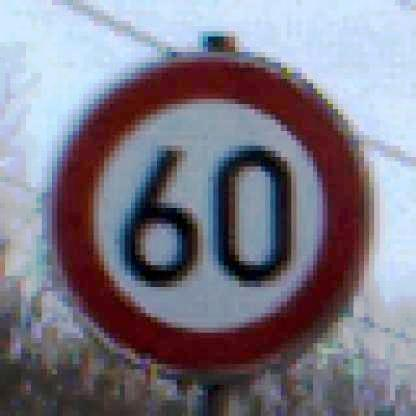Speed Limit -60-: (44, 44, 378, 379)
